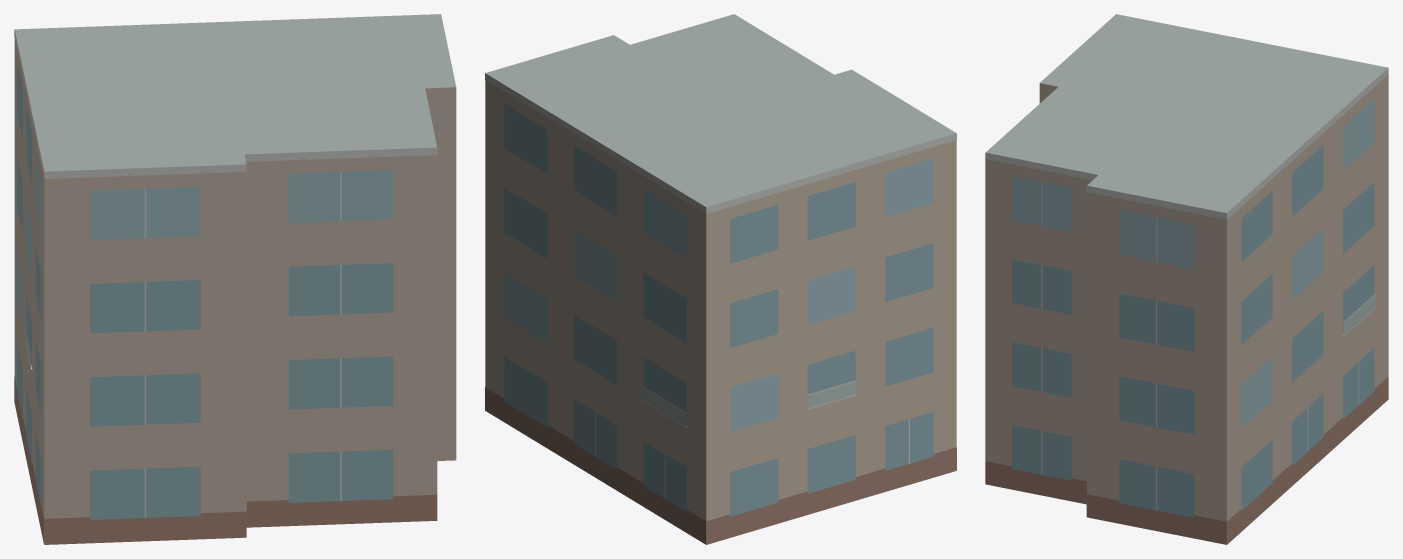
Rendered from survey-upis-32815548.glb.
3 renders of one model, left to right at view 1: azimuth 30°, elevation 25°; view 2: azimuth 150°, elevation 25°; view 3: azimuth 270°, elevation 25°, orthographic. The views are drawn at different scales.
Parts seen in each view (by area): view 1: survey-upis-32815548.tmp; view 2: survey-upis-32815548.tmp; view 3: survey-upis-32815548.tmp.
Boxes of the visible parts, <box> form: survey-upis-32815548.tmp: <box>14,14,456,544</box>; survey-upis-32815548.tmp: <box>485,14,956,544</box>; survey-upis-32815548.tmp: <box>985,14,1388,544</box>.
Size of the model in its own units: 15.72 by 12.2 by 13.45.
